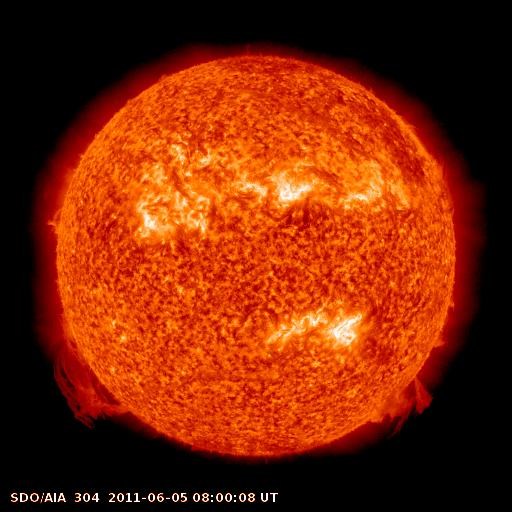prominence: (42, 315, 142, 436), (362, 374, 437, 437), (46, 202, 71, 239), (427, 327, 450, 355)
